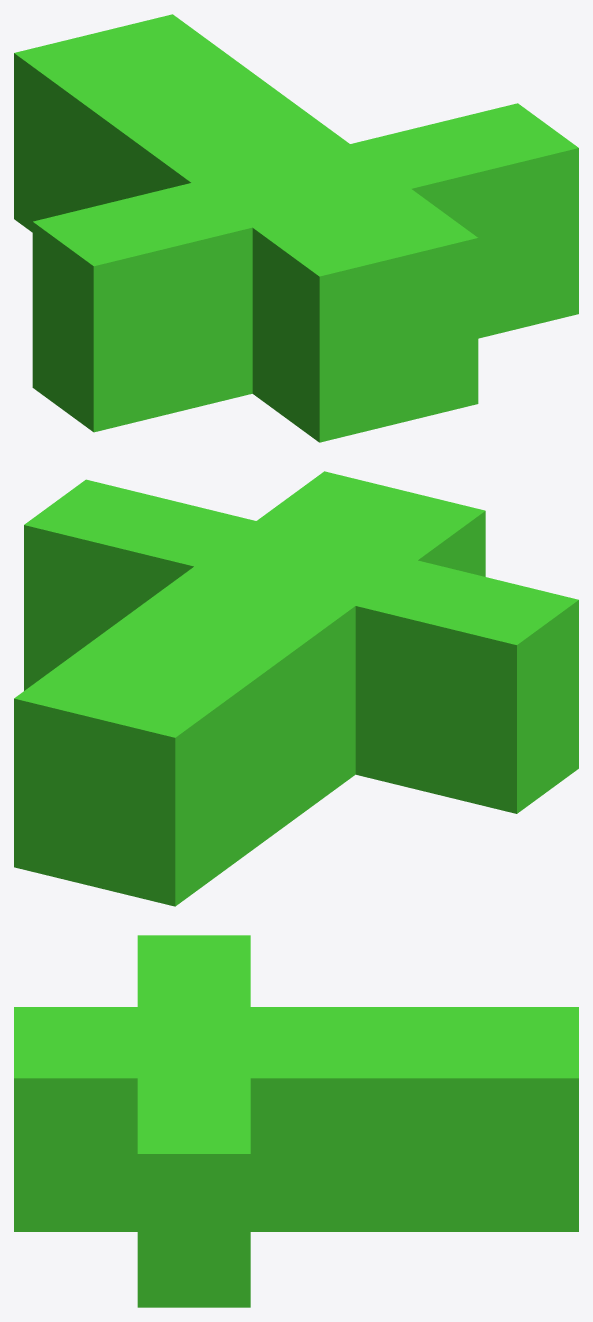
The model's file is onicofosis.gltf.
3 views of the same model, one above another, from view 1: azimuth 30°, elevation 25°; view 2: azimuth 150°, elevation 25°; view 3: azimuth 270°, elevation 25° (orthographic). The views are drawn at different scales.
Visible parts, largest first — view 1: Cube; view 2: Cube; view 3: Cube.
Part boxes in pixels (bbox=[...]): Cube: bbox=[14, 14, 578, 442]; Cube: bbox=[14, 471, 578, 906]; Cube: bbox=[14, 935, 578, 1307].
Size of the model in its own units: 1.83 by 0.6 by 2.
